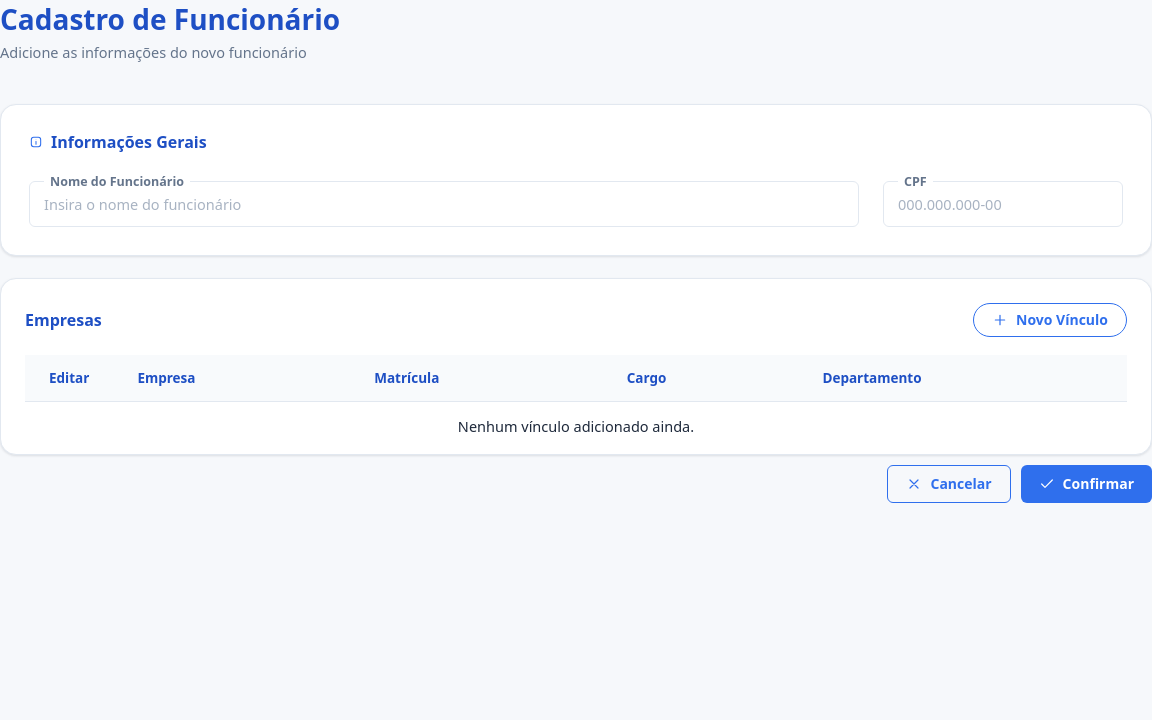
it: FuncionarioForm › deve adicionar um novo vínculo no modal
The image size is (1152, 720).
Click the button "Novo Vínculo" at (1050, 320), box [973, 303, 1127, 337]
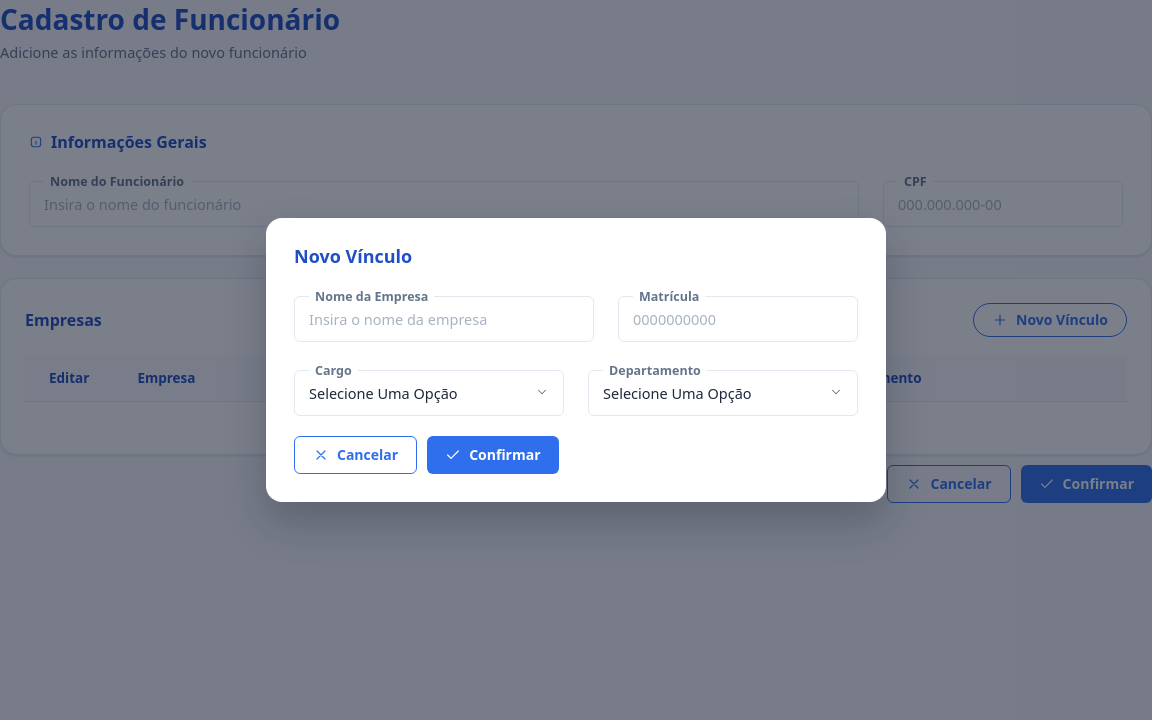
expect the heading "Novo Vínculo" is shown: met, box [294, 244, 412, 268]
Type "Nova Empresa" into the field with placeholder "Insira o nome da empresa" at (444, 318), box [309, 305, 579, 331]
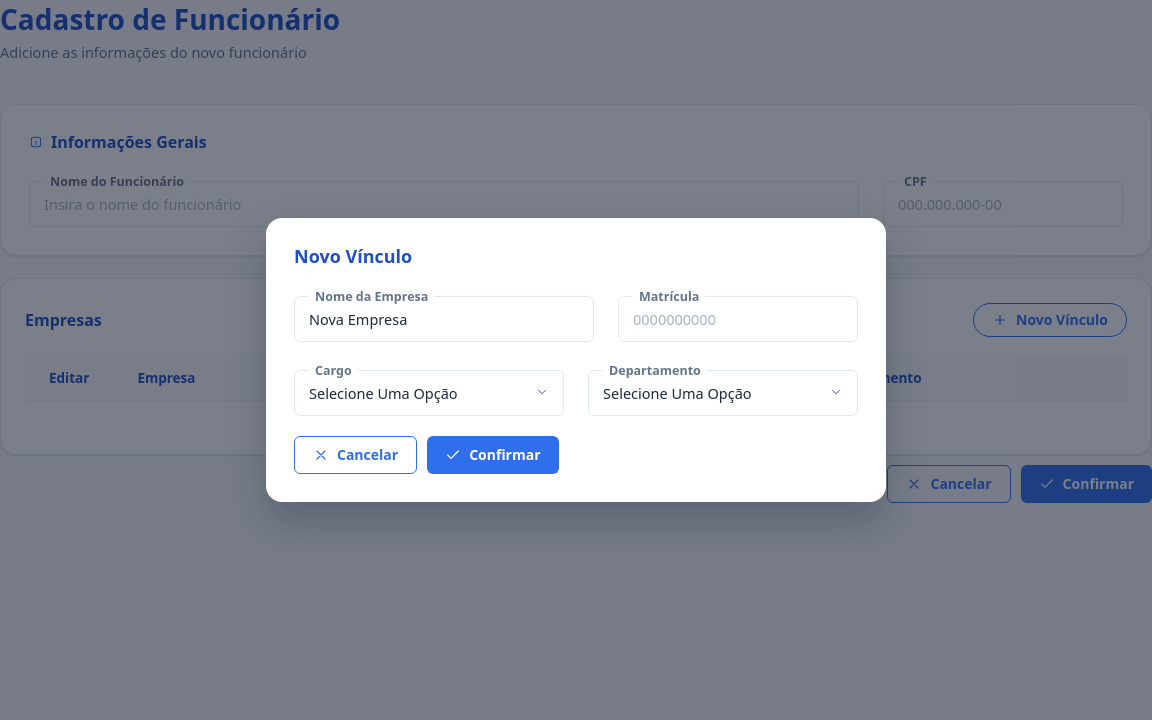
Type "999" into the field with placeholder "0000000000" at (738, 318), box [633, 305, 843, 331]
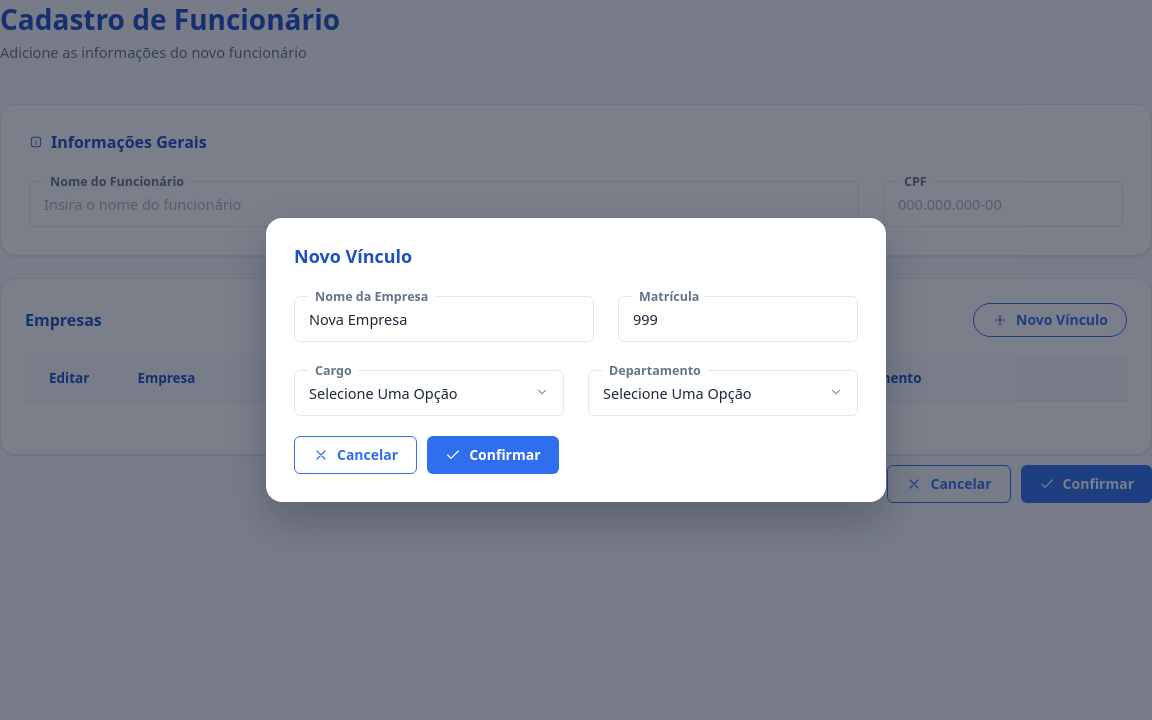
Select "Dev" in the 1st dropdown at (429, 392), box [309, 379, 549, 405]
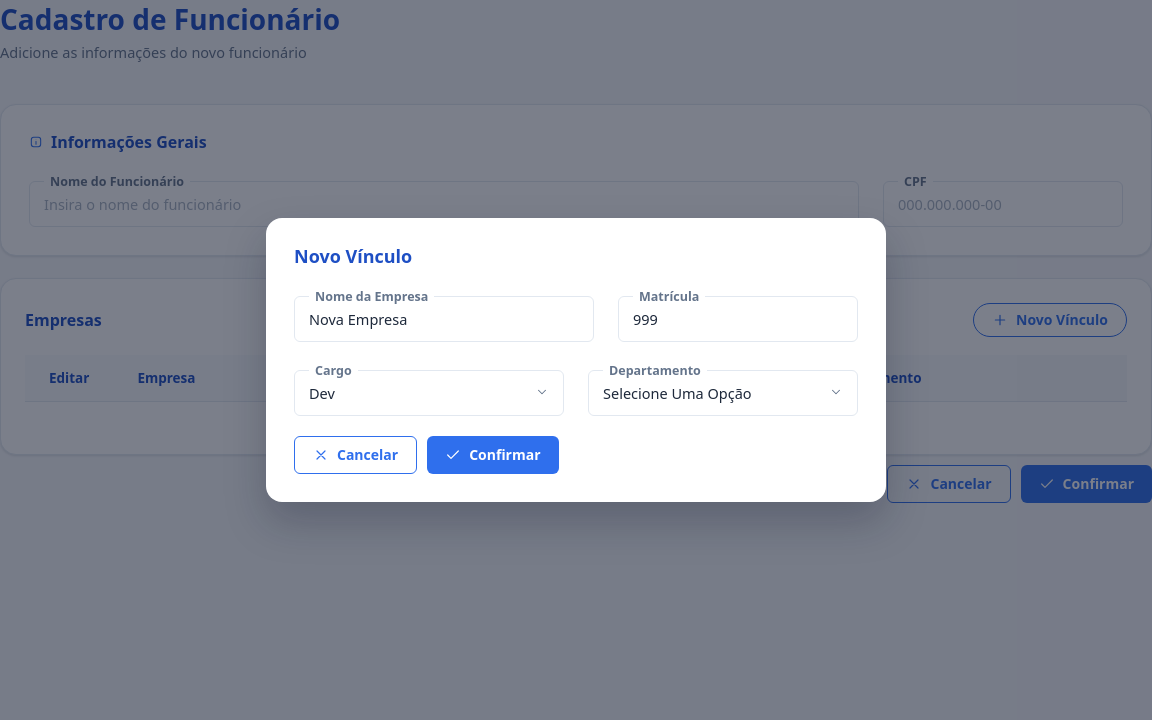
Select "TI" in the 2nd dropdown at (723, 392), box [603, 379, 843, 405]
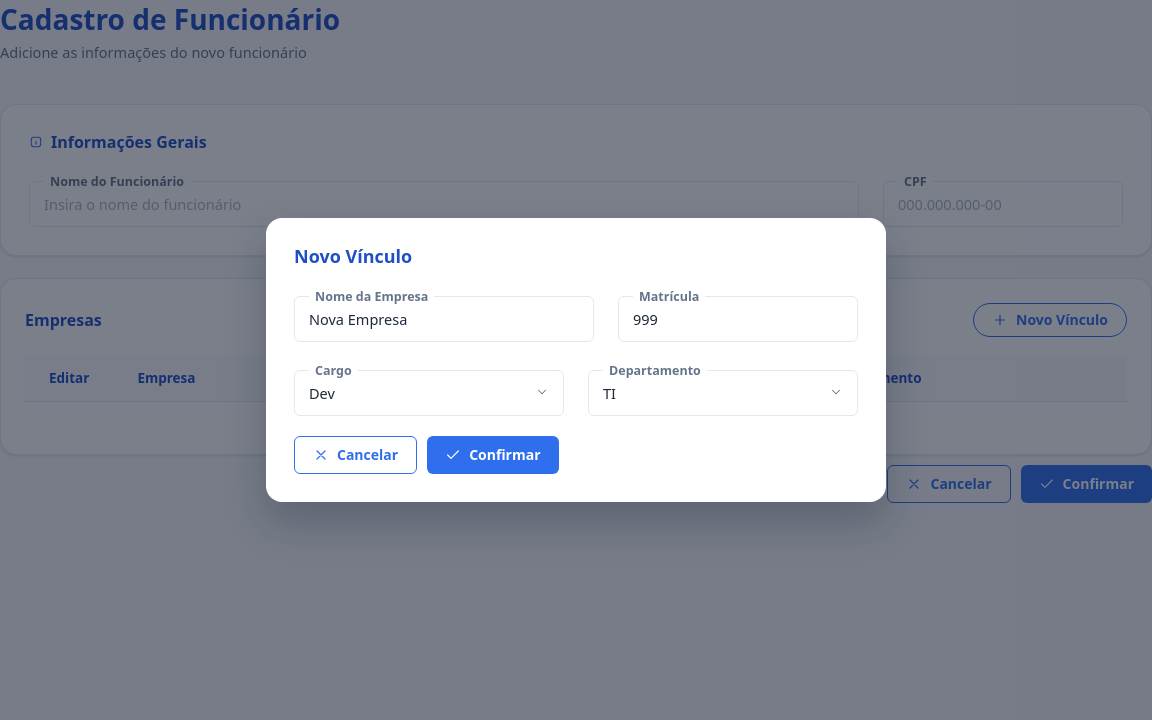
Click the button "Confirmar" at (493, 455), box [427, 436, 558, 474]
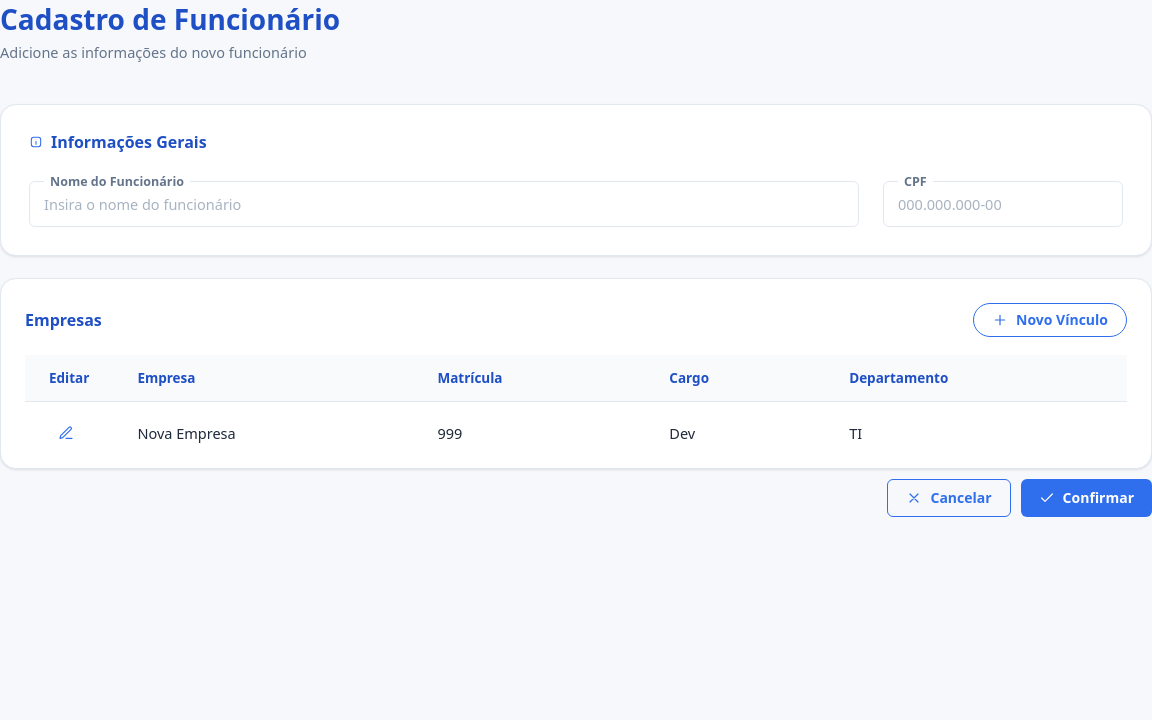
expect the text "Nova Empresa" is shown: met, box [113, 402, 413, 464]
